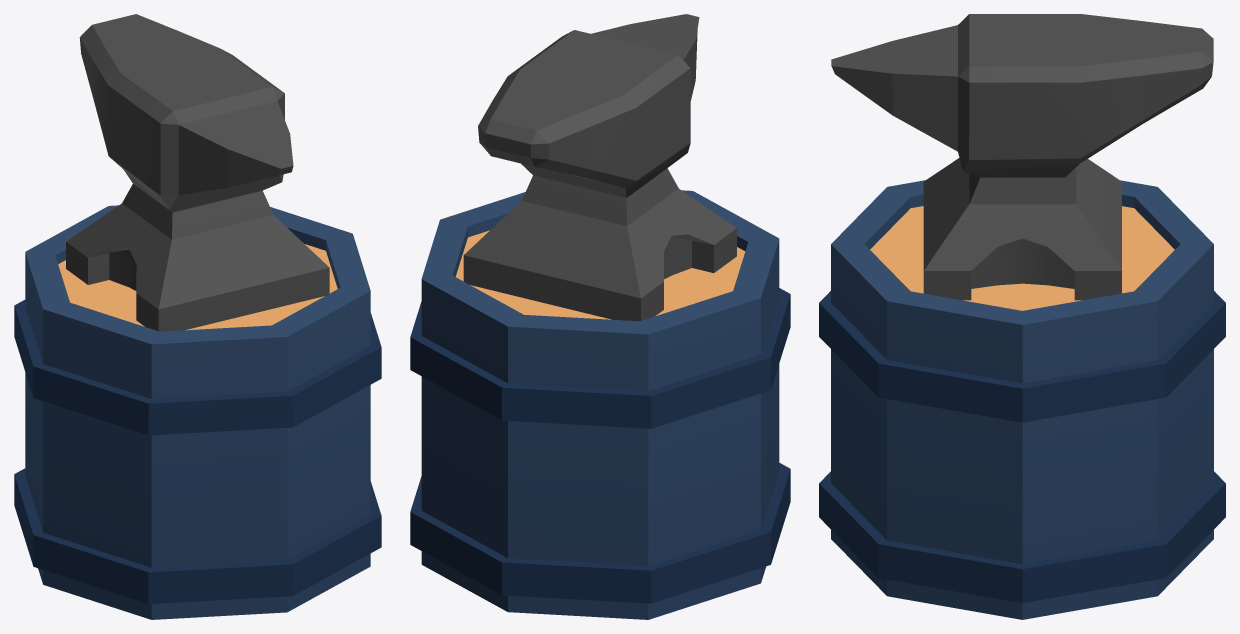
Rendered from Anvil_B.fbx.
3 renders of one model, left to right at view 1: azimuth 30°, elevation 25°; view 2: azimuth 150°, elevation 25°; view 3: azimuth 270°, elevation 25°, orthographic. The views are drawn at different scales.
Visible parts, largest first — view 1: Anvil_B; view 2: Anvil_B; view 3: Anvil_B.
Boxes of the visible parts, left/top/right/bottom form: Anvil_B: left=14, top=14, right=381, bottom=619; Anvil_B: left=410, top=14, right=790, bottom=619; Anvil_B: left=819, top=14, right=1225, bottom=619.
Bounding box in the file's own units: 100 × 136 × 100.
